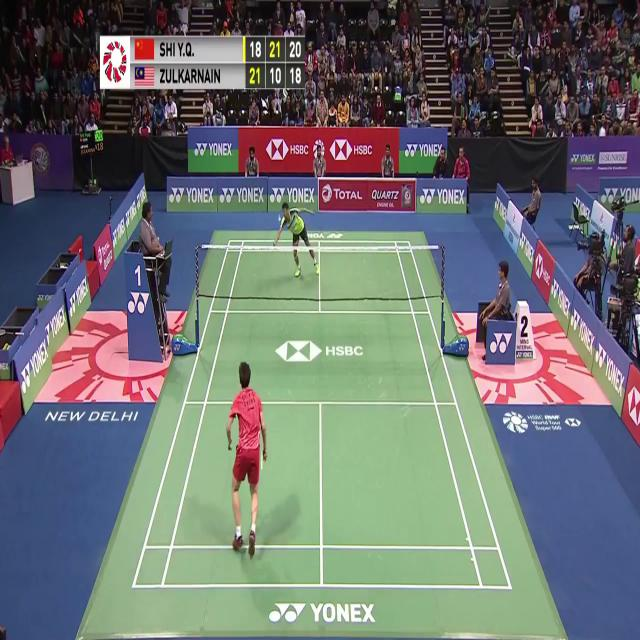Shuttlecock: (277, 213, 283, 224)
